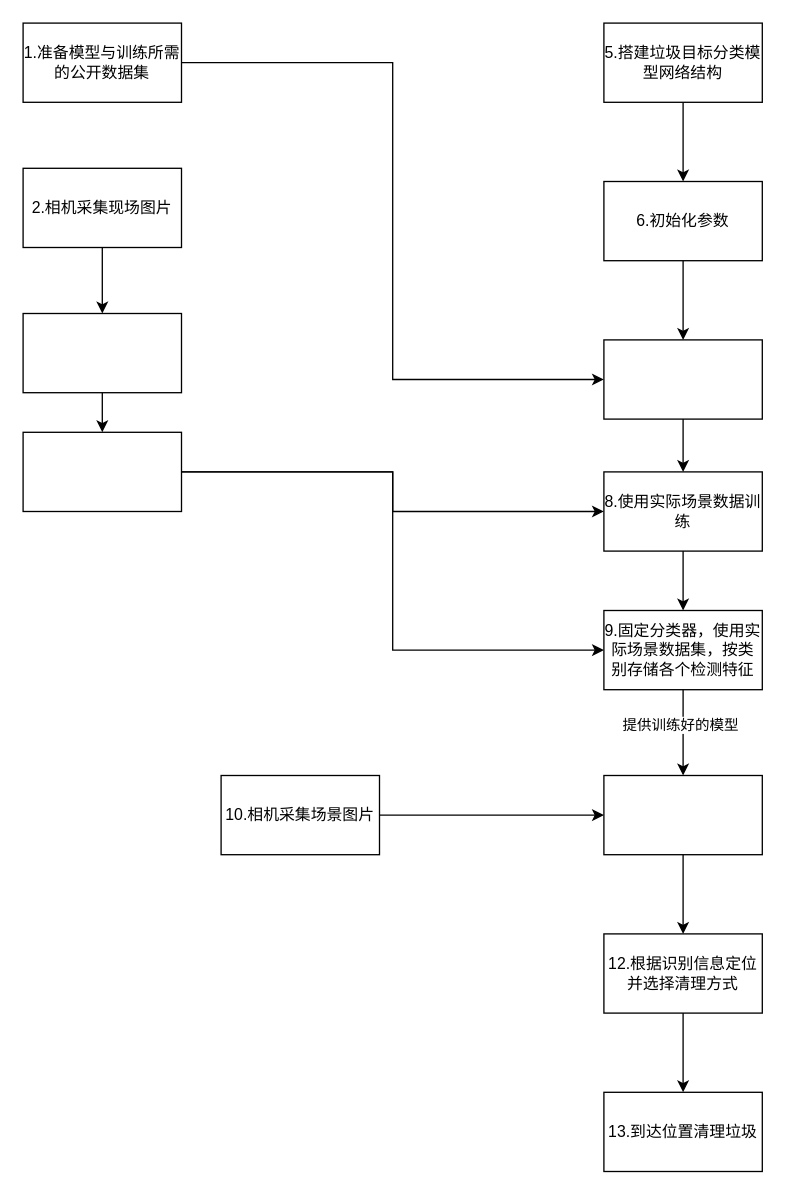
The diagram is 785 pixels wide and 1195 high, and some of its shapes have lost their labels. Here are the shapes that lost their labels. From the top down, the centre of each, then its label:
pixel 102 352: 3.标注图片上的检测类别信息
pixel 682 379: 7.使用公开数据集预训练
pixel 102 471: 4.制作实际场景垃圾数据集
pixel 682 814: 11.垃圾目标检测模型推理垃圾检测框并识别垃圾类别
